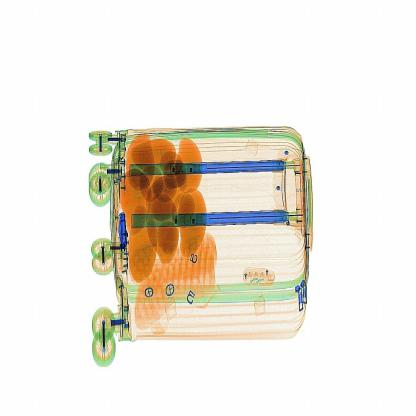knife: (115, 198, 141, 263)
